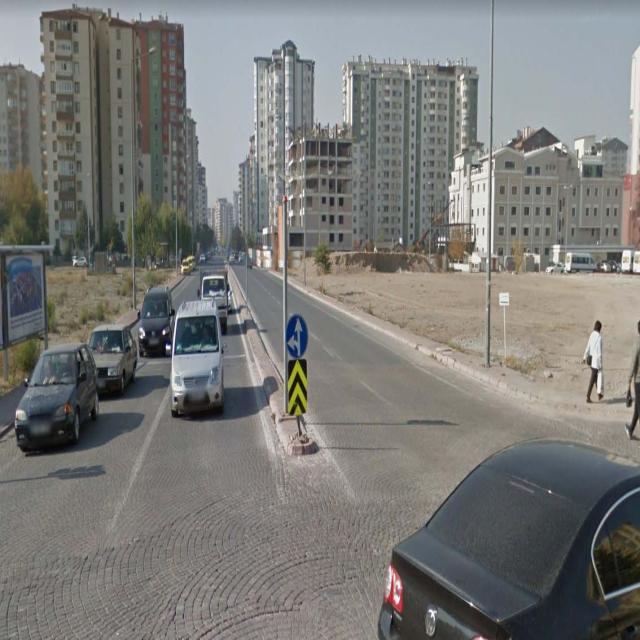ilerisol: (286, 314, 308, 358)
